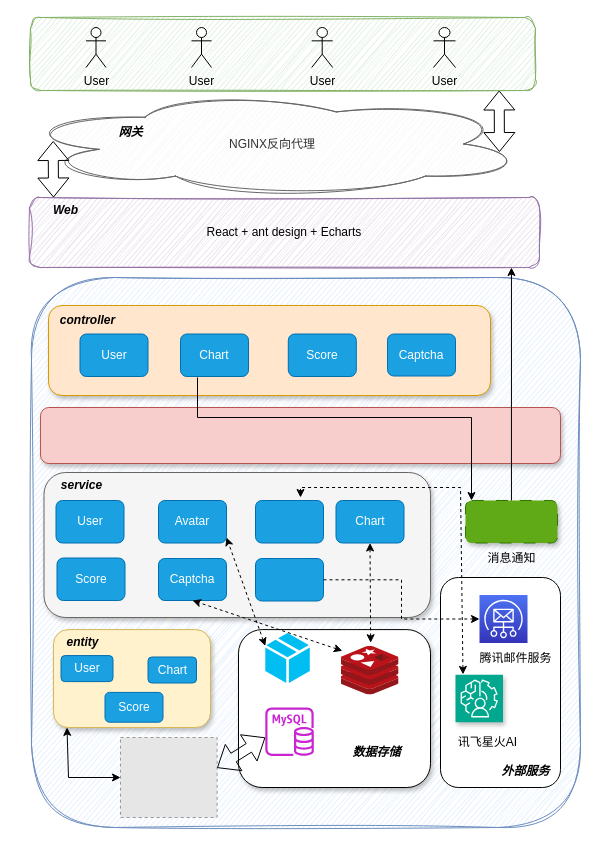
The diagram is 598 pixels wide and 845 high, and some of its shapes have lost their labels. Grey dashed boxes stand in for pictures. Each missing label, with the centre of its shape:
"Email" goes at (289,579).
"MySQL数据库" goes at (289,731).
"Redis缓存服务" goes at (369,670).
"SparkAi" goes at (289,521).
"WebSocket" goes at (512,523).
"全局响应拦截器" goes at (301,436).
"阿里云OSS" goes at (287,657).
